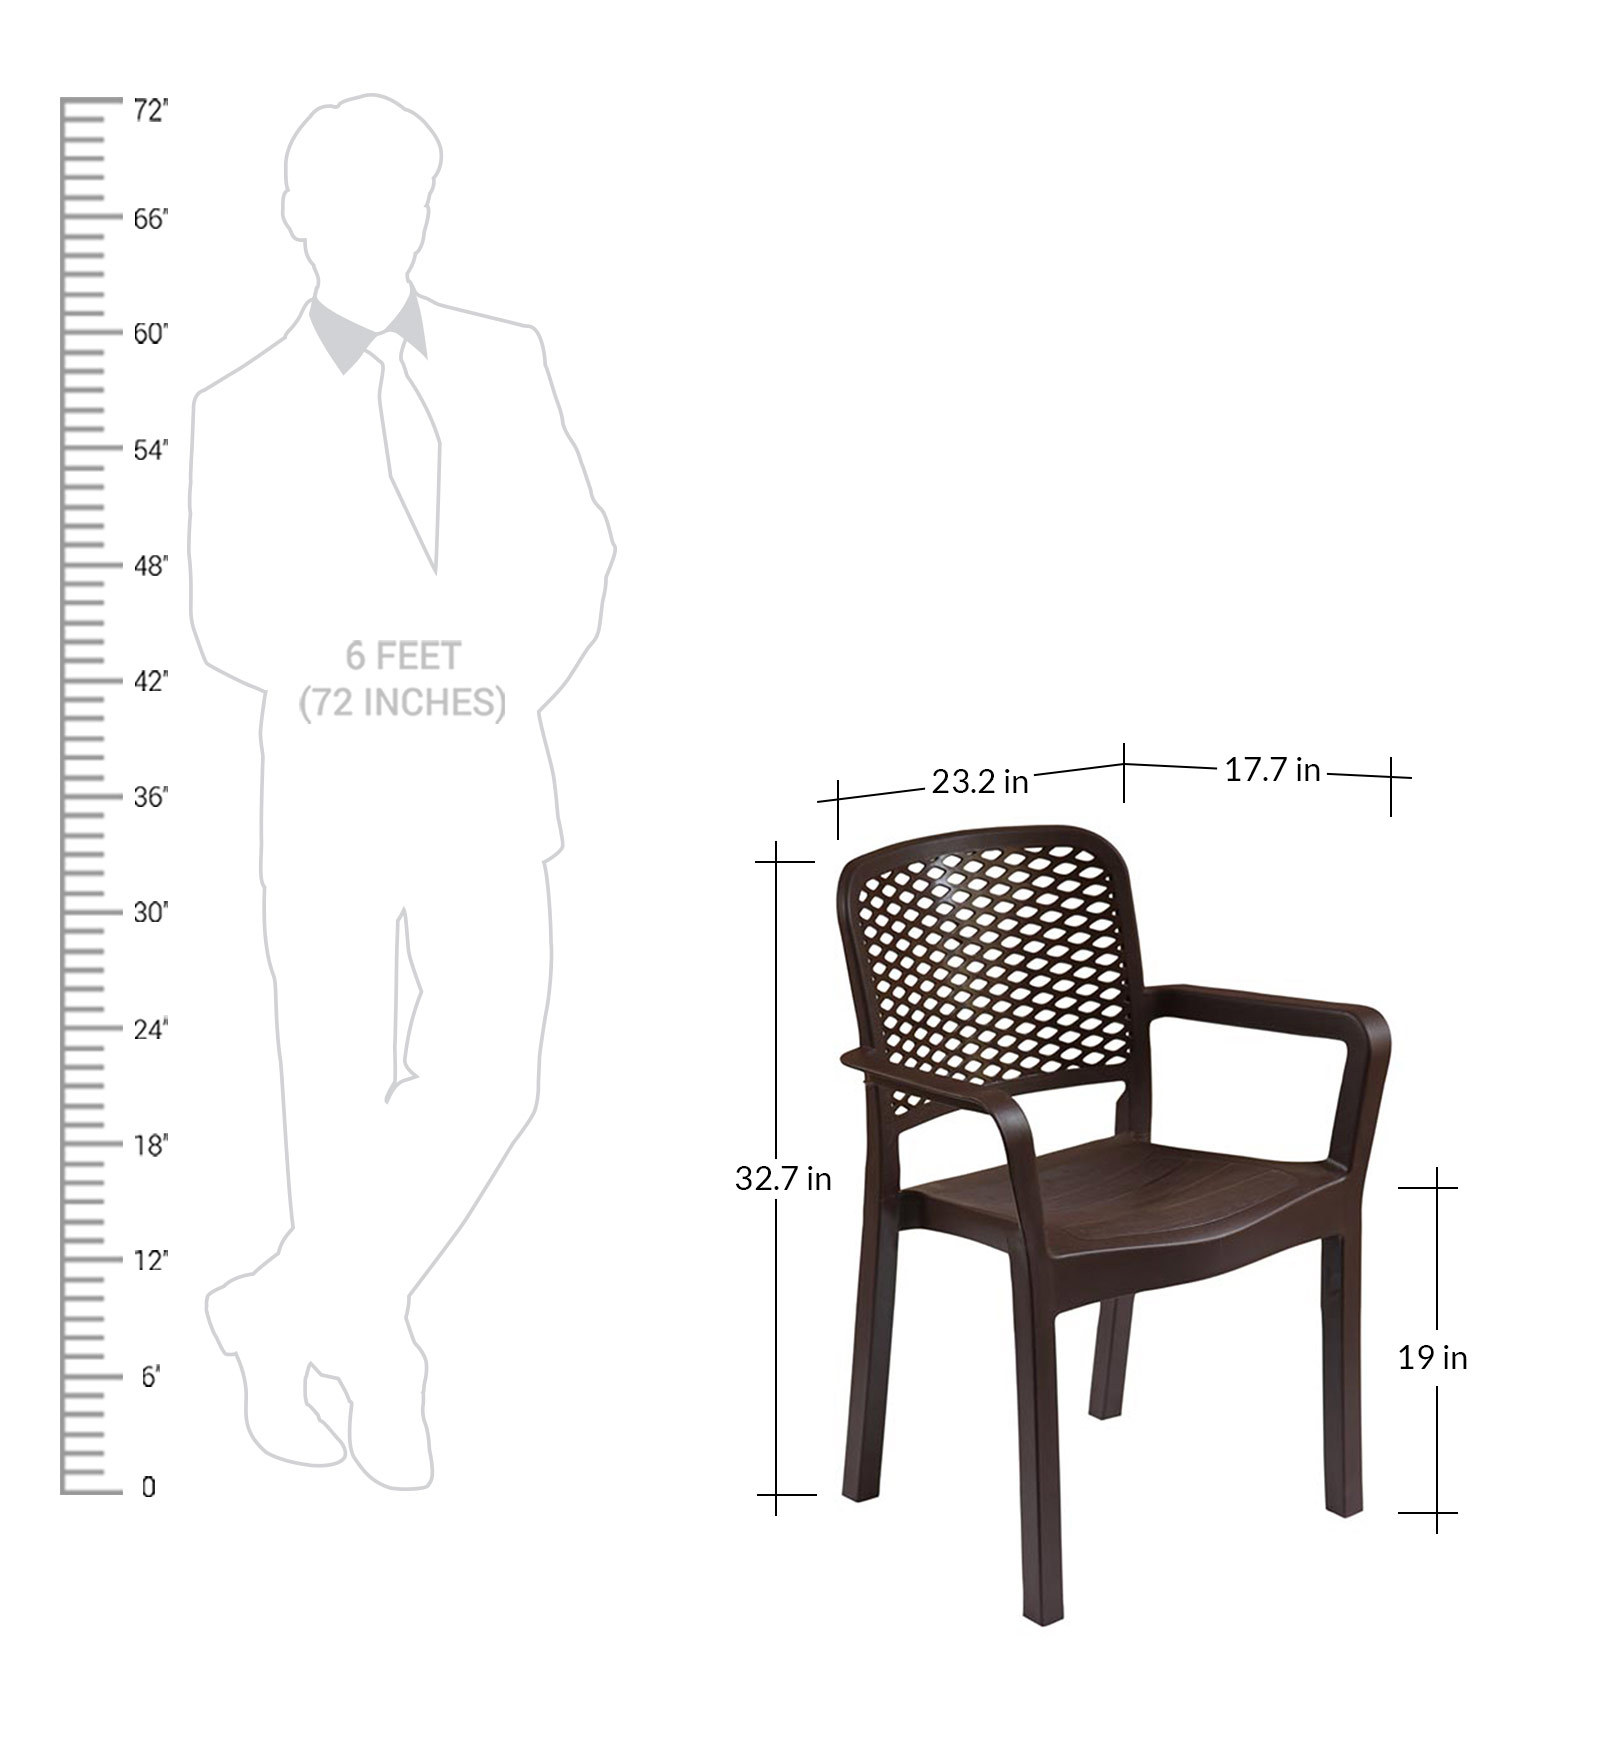Luxury Plastic Chair in Brown Colour by Italica Furniture: (826, 836, 1385, 1625)
